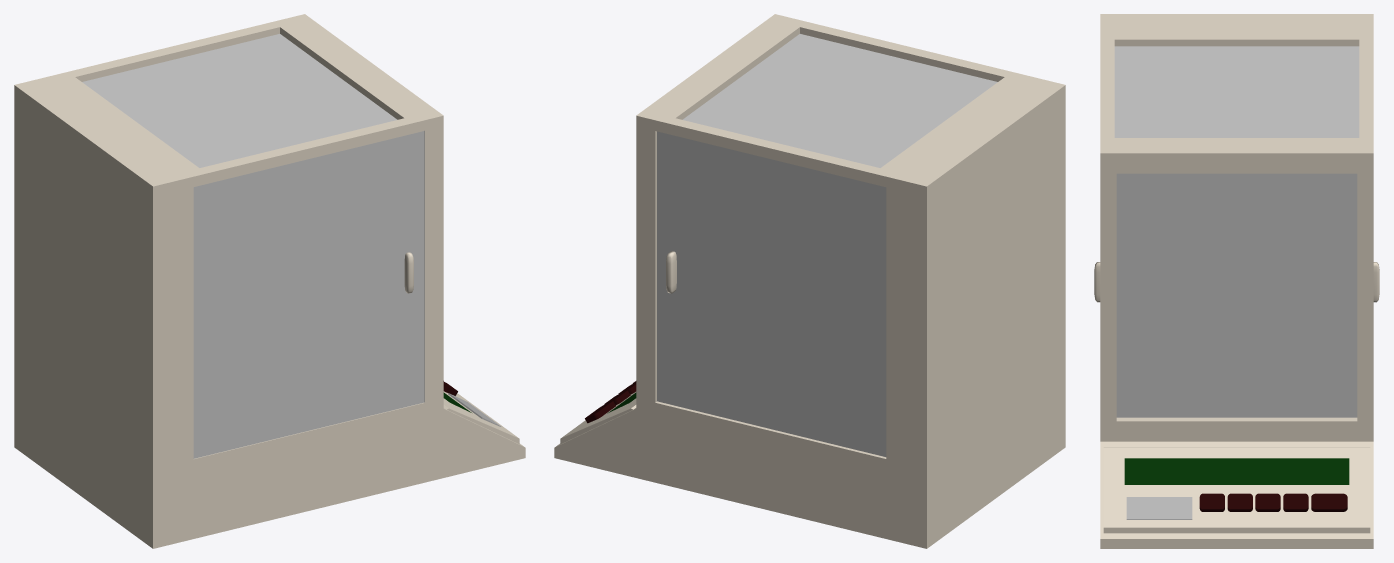
File: balance_with_animations.gltf
3 views of the same model, side by side, from view 1: azimuth 30°, elevation 25°; view 2: azimuth 150°, elevation 25°; view 3: azimuth 270°, elevation 25° (orthographic).
Visible parts, largest first — view 1: balance, glassL, glassT.001; view 2: balance, glassR, glassT.001; view 3: glassF.002, balance, glassT.001, screen, brand, button_tare, button_cal, button_set, button_select, button_onoff.
Boxes of the visible parts, box(x1,y1,x2,y2) form: balance: box(14, 14, 525, 548); glassL: box(193, 131, 424, 458); glassT.001: box(82, 34, 397, 167); balance: box(554, 14, 1065, 548); glassR: box(657, 131, 886, 456); glassT.001: box(682, 34, 997, 167); glassF.002: box(1116, 173, 1357, 417); balance: box(1100, 14, 1373, 548); glassT.001: box(1114, 46, 1359, 137); screen: box(1124, 458, 1349, 484); brand: box(1126, 497, 1192, 519); button_tare: box(1311, 493, 1347, 511); button_cal: box(1255, 493, 1280, 511); button_set: box(1227, 493, 1252, 511); button_select: box(1283, 493, 1308, 511); button_onoff: box(1199, 493, 1224, 511).
Size of the model in its own units: 4.4 by 4.09 by 2.97.
